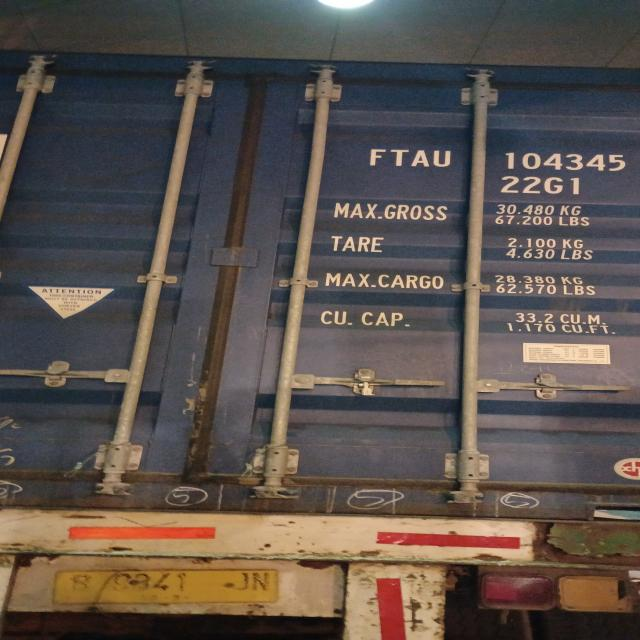seal: (356, 372, 377, 396)
